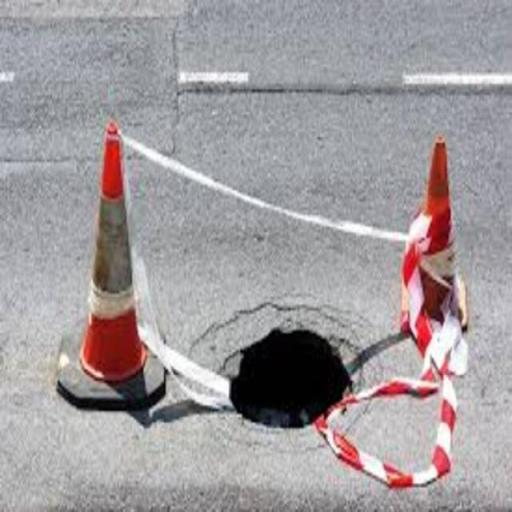Concentric_Crack: (231, 331, 350, 427)
